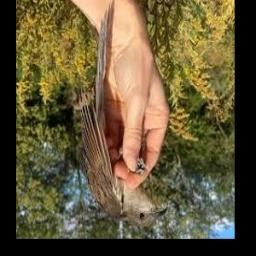Cuckoo: (78, 4, 167, 229)
